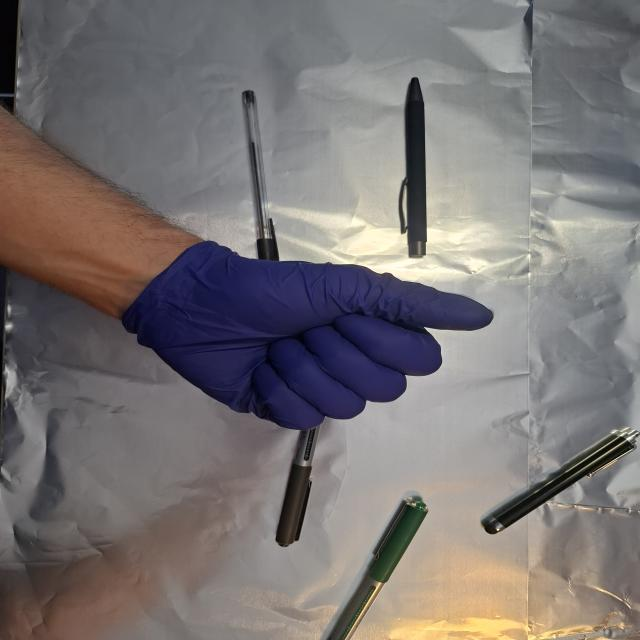glove_on: (116, 238, 500, 433)
